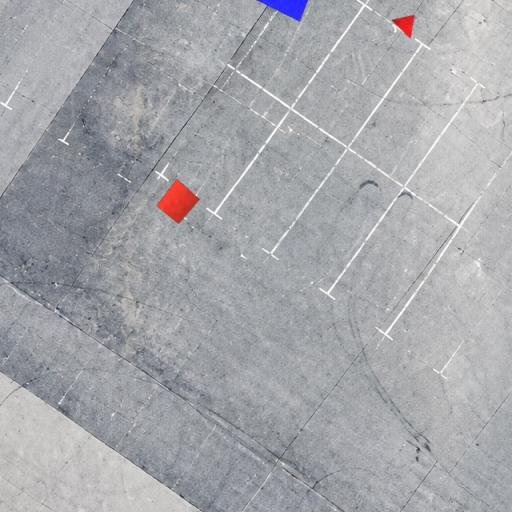RED_SQUARE: (156, 178, 200, 225)
